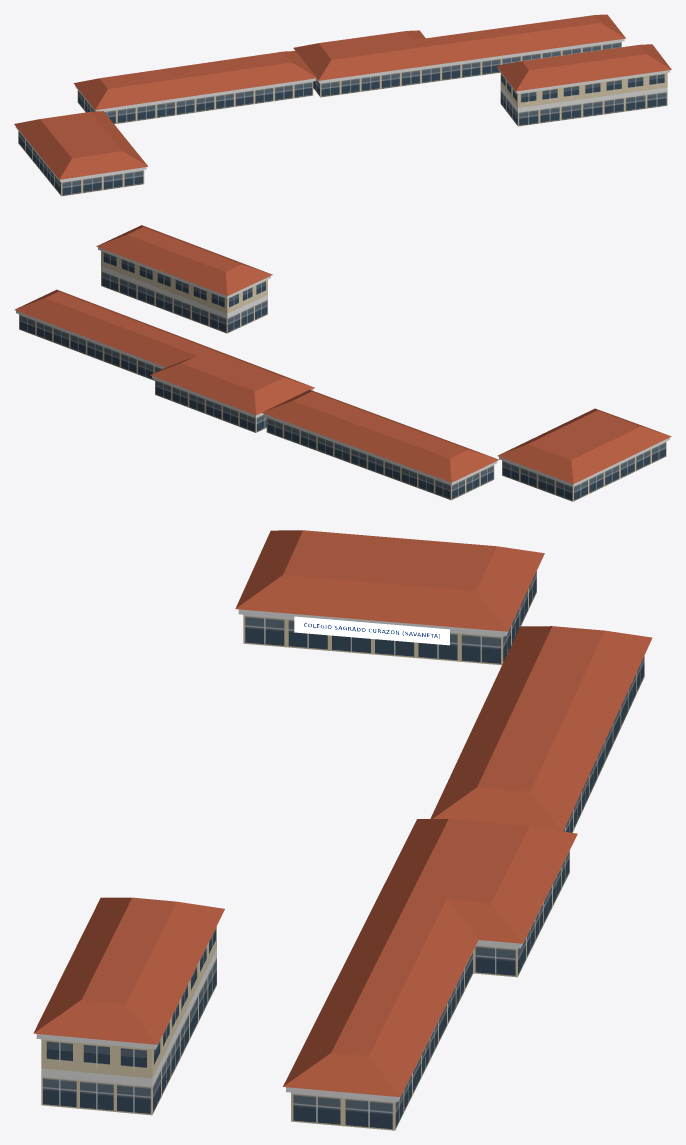
File: sagradocurazon.glb
The picture shows the model from 3 angles, top to bottom: view 1: azimuth 30°, elevation 25°; view 2: azimuth 150°, elevation 25°; view 3: azimuth 270°, elevation 25°; orthographic projection. The views are drawn at different scales.
Parts seen in each view (by area): view 1: sagradocurazon_lod0; view 2: sagradocurazon_lod0; view 3: sagradocurazon_lod0.
Boxes of the visible parts, x1=… form: sagradocurazon_lod0: x1=14, y1=14, x2=671, y2=196; sagradocurazon_lod0: x1=14, y1=225, x2=671, y2=501; sagradocurazon_lod0: x1=33, y1=530, x2=652, y2=1130.
Size of what is drawn, in the model's own units: 118 by 9.19 by 54.61.
5 materials, 3 textured.
